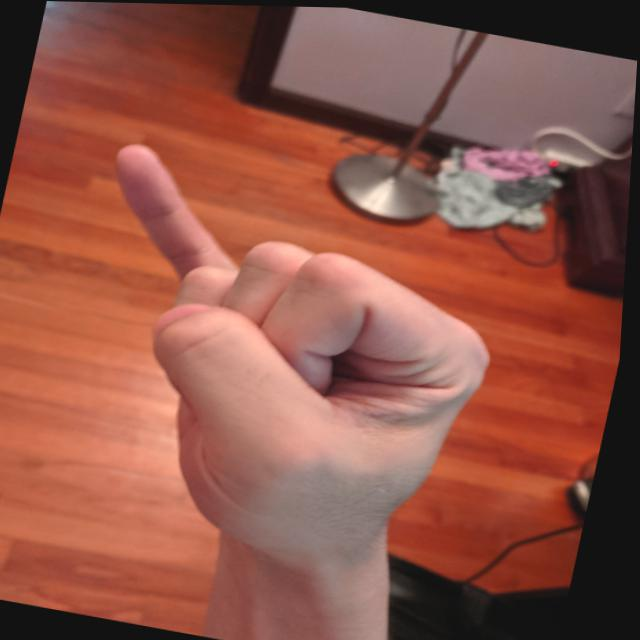I: (31, 131, 538, 588)
